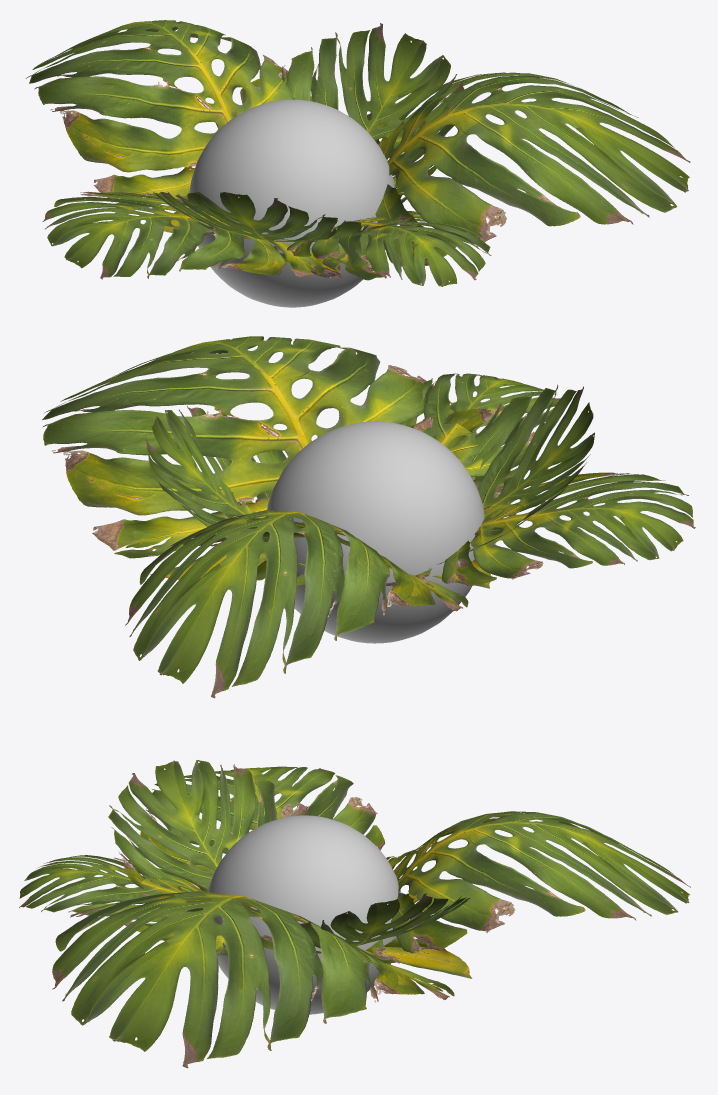
Rendered from Eyeball_Plant_Versie1.fbx.
3 views of the same model, one above another, from view 1: azimuth 30°, elevation 25°; view 2: azimuth 150°, elevation 25°; view 3: azimuth 270°, elevation 25° (orthographic). The views are drawn at different scales.
Visible parts, largest first — view 1: Leaves, Eyeball; view 2: Leaves, Eyeball; view 3: Leaves, Eyeball.
Boxes of the visible parts, <box> form: Leaves: <box>25,20,690,286</box>; Eyeball: <box>189,99,394,307</box>; Leaves: <box>42,336,695,698</box>; Eyeball: <box>267,421,484,643</box>; Leaves: <box>19,760,690,1068</box>; Eyeball: <box>207,815,401,1014</box>.
Size of the model in its own units: 53.41 by 16.4 by 54.09.
